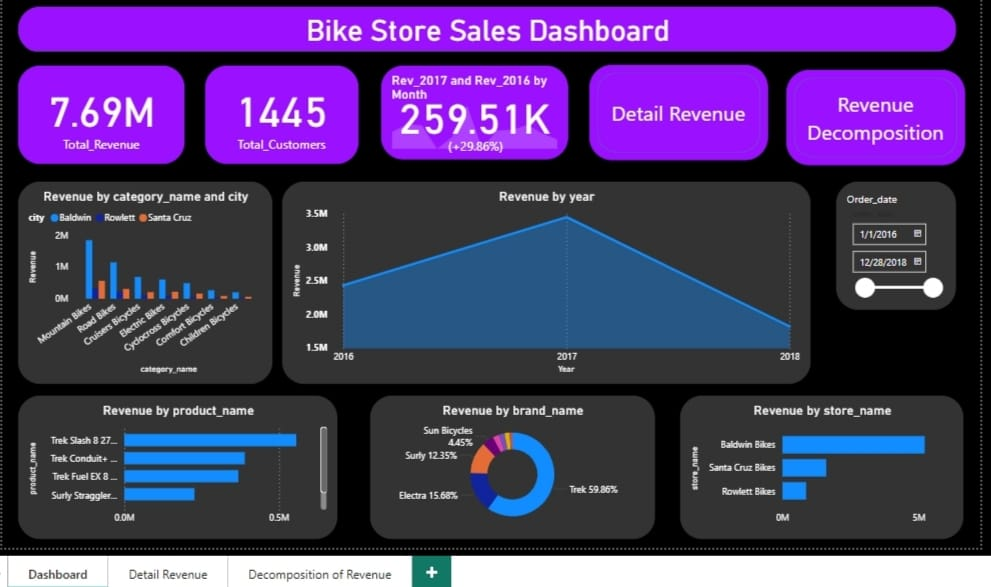

The page's visual inventory and layout, read from the dashboard file:
{"tool":"powerbi","page":{"name":"Dashboard","canvas":[1280,720],"ordinal":0},"visuals":[{"type":"lineChart","title":"Revenue by year","fields":{"Category":["orders.order_date.Variation.Date Hierarchy.Year","orders.order_date.Variation.Date Hierarchy.Quarter","orders.order_date.Variation.Date Hierarchy.Month","orders.order_date.Variation.Date Hierarchy.Day"],"Y":["measures_table.Revenue"]},"box":[365.9,239.5,693.6,267.4],"z":0},{"type":"card","fields":{"Values":["measures_table.Sum_of_revenue"]},"box":[19.1,88.2,220.4,130.8],"z":1000},{"type":"donutChart","fields":{"Y":["measures_table.Revenue"],"Category":["brands.brand_name"]},"box":[480.5,520.2,374.7,189.6],"z":2000},{"type":"clusteredColumnChart","fields":{"Category":["categories.category_name"],"Y":["measures_table.Revenue"],"Series":["stores.city"]},"box":[19.1,239.5,335,267.4],"z":3000},{"type":"slicer","fields":{"Values":["orders.order_date"]},"box":[1090.3,239.5,158.7,170.4],"z":4000},{"type":"card","fields":{"Values":["measures_table.Total_Customers"]},"box":[264.5,88.2,202.8,130.8],"z":5000},{"type":"kpi","fields":{"TrendLine":["orders.Month"],"Goal":["measures_table.Revenue_2016"],"Indicator":["measures_table.Revenue_2017"]},"box":[495.2,88.2,246.9,124.9],"z":6000},{"type":"shape","box":[768.5,88.2,233.6,124.9],"z":7000},{"type":"barChart","fields":{"Y":["measures_table.Revenue"],"Category":["products.product_name"]},"box":[19.1,520.2,420.2,189.6],"z":8000},{"type":"shape","title":"Bike Store Sales Dashboard","box":[19.1,10.3,1229.9,61.7],"z":9000},{"type":"barChart","fields":{"Category":["stores.store_name"],"Y":["measures_table.Revenue"]},"box":[886,520.2,373.2,189.6],"z":10000},{"type":"shape","box":[1026.2,93.8,233.8,124.6],"z":10001}]}

Visuals, with their boxes on the page's 1280x720 design canvas (x1, y1, x2, y2). These are canvas units, not pixel positions in the 991x587 screenshot, which may show the page scaled, cropped or inside an application window:
"Revenue by year" lineChart: region(366, 240, 1060, 507)
card - measures_table.Sum_of_revenue: region(19, 88, 240, 219)
donutChart - measures_table.Revenue x brands.brand_name: region(480, 520, 855, 710)
clusteredColumnChart - categories.category_name x measures_table.Revenue: region(19, 240, 354, 507)
slicer - orders.order_date: region(1090, 240, 1249, 410)
card - measures_table.Total_Customers: region(264, 88, 467, 219)
kpi - orders.Month x measures_table.Revenue_2016: region(495, 88, 742, 213)
shape: region(768, 88, 1002, 213)
barChart - measures_table.Revenue x products.product_name: region(19, 520, 439, 710)
"Bike Store Sales Dashboard" shape: region(19, 10, 1249, 72)
barChart - stores.store_name x measures_table.Revenue: region(886, 520, 1259, 710)
shape: region(1026, 94, 1260, 218)
